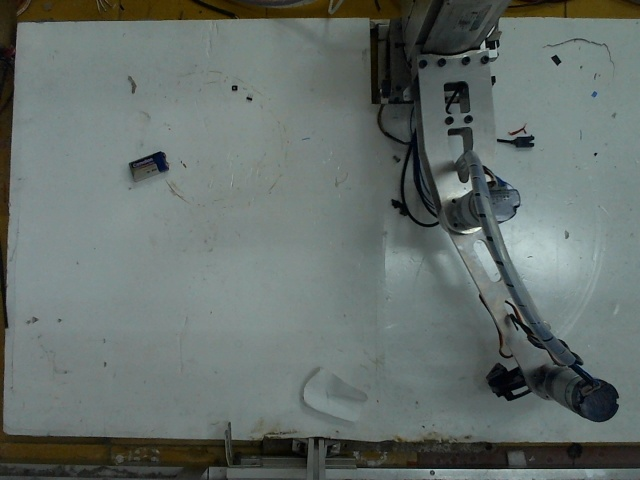battery: (123, 148, 170, 183)
